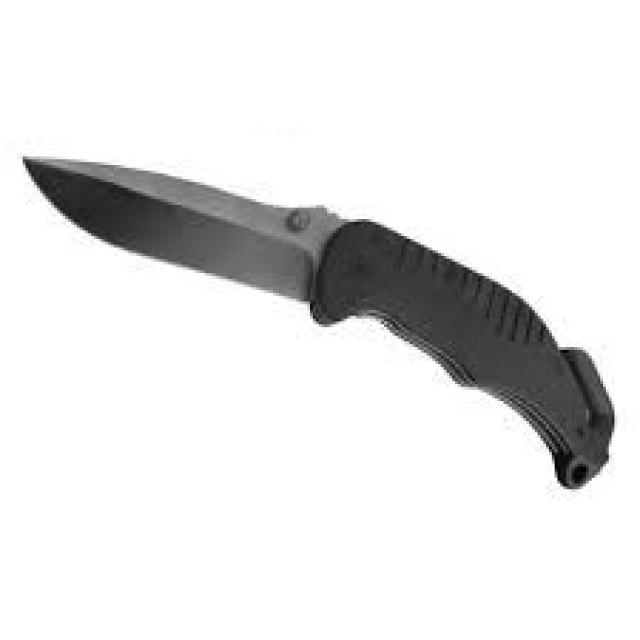knife: (22, 139, 618, 497)
